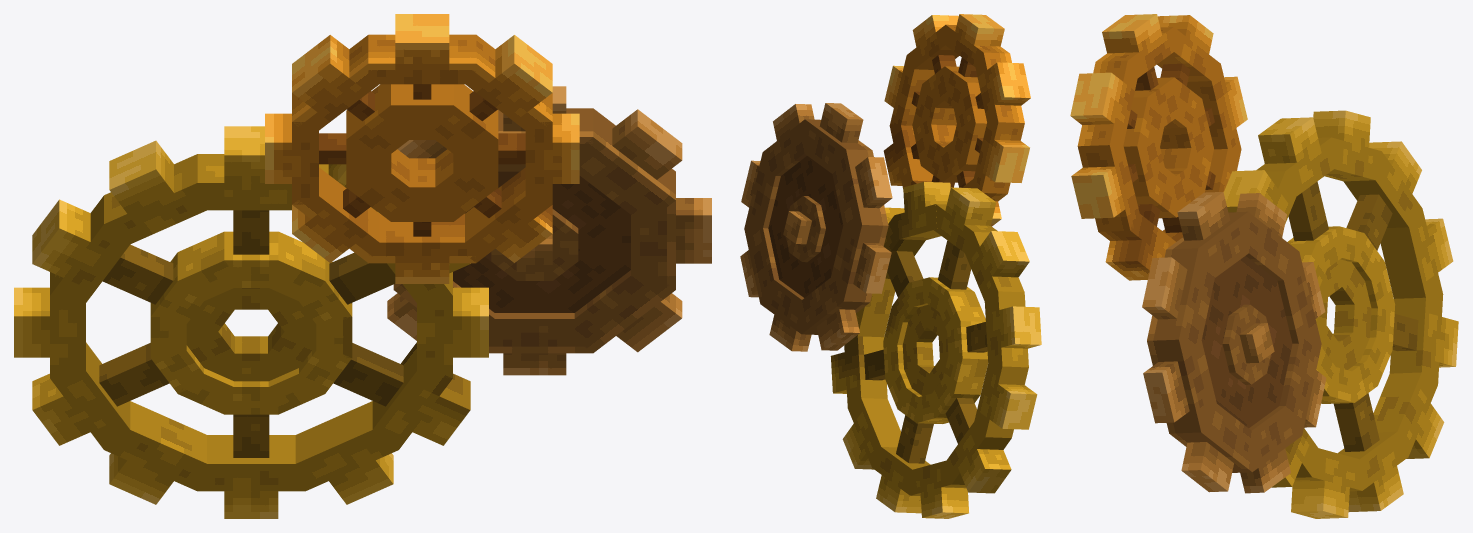
File: icon_golden_gear_3.gltf
3 views of the same model, side by side, from view 1: azimuth 30°, elevation 25°; view 2: azimuth 150°, elevation 25°; view 3: azimuth 270°, elevation 25° (orthographic). The views are drawn at different scales.
Visible parts, largest first — view 1: gear_c_outer_4-Local, gear_c_outer_2-Local, gear_a_09-Local, gear_a_11-Local, gear_a_03-Local, gear_a_01-Local, gear_a_08-Local, gear_a_07-Local, gear_a_02-Local, gear_b_outer_5-Local, gear_a_12-Local, gear_b_outer_4-Local (+35 smaller); view 2: gear_c_outer_6-Local, gear_c_outer_8-Local, gear_a_09-Local, gear_a_11-Local, gear_a_07-Local, gear_c_outer_4-Local, gear_c_outer_7-Local, gear_c_outer_2-Local, gear_a_10-Local, gear_a_01-Local, gear_a_08-Local, gear_b_outer_7-Local (+37 smaller); view 3: gear_c_outer_4-Local, gear_c_outer_2-Local, gear_c_outer_6-Local, gear_a_07-Local, gear_c_outer_3-Local, gear_a_01-Local, gear_a_09-Local, gear_c_outer_8-Local, gear_b_outer_3-Local, gear_a_10-Local, gear_b_outer_4-Local, gear_a_11-Local (+34 smaller).
Boxes of the visible parts, x1=… form: gear_c_outer_4-Local: x1=552, y1=108, x2=682, y2=257; gear_c_outer_2-Local: x1=511, y1=239, x2=682, y2=352; gear_a_09-Local: x1=32, y1=196, x2=173, y2=309; gear_a_11-Local: x1=32, y1=342, x2=169, y2=449; gear_a_03-Local: x1=333, y1=342, x2=470, y2=449; gear_a_01-Local: x1=197, y1=414, x2=305, y2=518; gear_a_08-Local: x1=104, y1=140, x2=214, y2=247; gear_a_07-Local: x1=197, y1=126, x2=291, y2=254; gear_a_02-Local: x1=292, y1=401, x2=398, y2=504; gear_b_outer_5-Local: x1=368, y1=14, x2=476, y2=99; gear_a_12-Local: x1=104, y1=401, x2=210, y2=504; gear_b_outer_4-Local: x1=464, y1=35, x2=552, y2=130; gear_c_outer_6-Local: x1=809, y1=149, x2=892, y2=249; gear_c_outer_8-Local: x1=796, y1=226, x2=869, y2=350; gear_a_09-Local: x1=966, y1=291, x2=1041, y2=369; gear_a_11-Local: x1=943, y1=398, x2=1011, y2=493; gear_a_07-Local: x1=934, y1=187, x2=997, y2=289; gear_c_outer_4-Local: x1=763, y1=104, x2=822, y2=220; gear_c_outer_7-Local: x1=831, y1=223, x2=891, y2=302; gear_c_outer_2-Local: x1=740, y1=204, x2=807, y2=303; gear_a_10-Local: x1=973, y1=358, x2=1037, y2=437; gear_a_01-Local: x1=872, y1=415, x2=933, y2=513; gear_a_08-Local: x1=963, y1=231, x2=1029, y2=305; gear_b_outer_7-Local: x1=973, y1=119, x2=1029, y2=193; gear_c_outer_4-Local: x1=1142, y1=248, x2=1237, y2=371; gear_c_outer_2-Local: x1=1169, y1=355, x2=1265, y2=492; gear_c_outer_6-Local: x1=1222, y1=193, x2=1299, y2=321; gear_a_07-Local: x1=1256, y1=117, x2=1338, y2=241; gear_c_outer_3-Local: x1=1143, y1=337, x2=1216, y2=433; gear_a_01-Local: x1=1333, y1=393, x2=1408, y2=511; gear_a_09-Local: x1=1343, y1=141, x2=1422, y2=250; gear_c_outer_8-Local: x1=1261, y1=307, x2=1326, y2=434; gear_b_outer_3-Local: x1=1071, y1=137, x2=1140, y2=231; gear_a_10-Local: x1=1380, y1=209, x2=1453, y2=304; gear_b_outer_4-Local: x1=1070, y1=60, x2=1137, y2=147; gear_a_11-Local: x1=1389, y1=294, x2=1458, y2=384.
Size of the model in its own units: 71.79 by 71.9 by 50.6.
57 materials, 57 textured.
